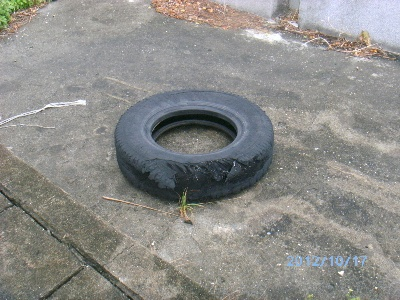tire: (113, 88, 277, 203)
